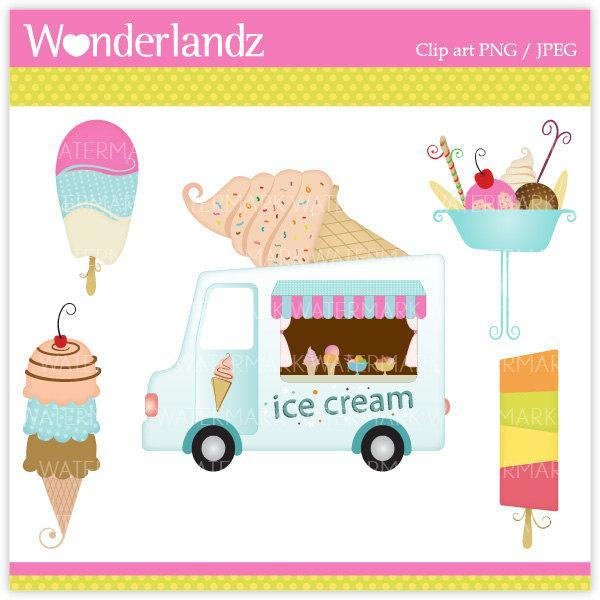car: (114, 247, 461, 494)
